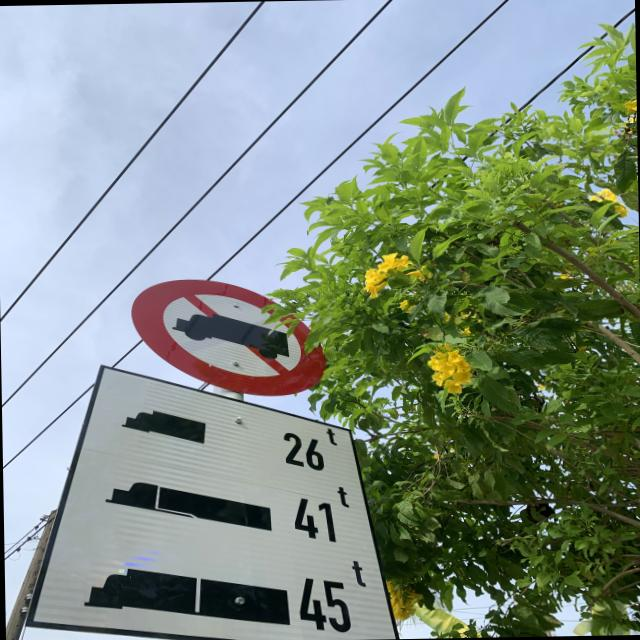Cam_Xe_Tai: (130, 274, 328, 398)
